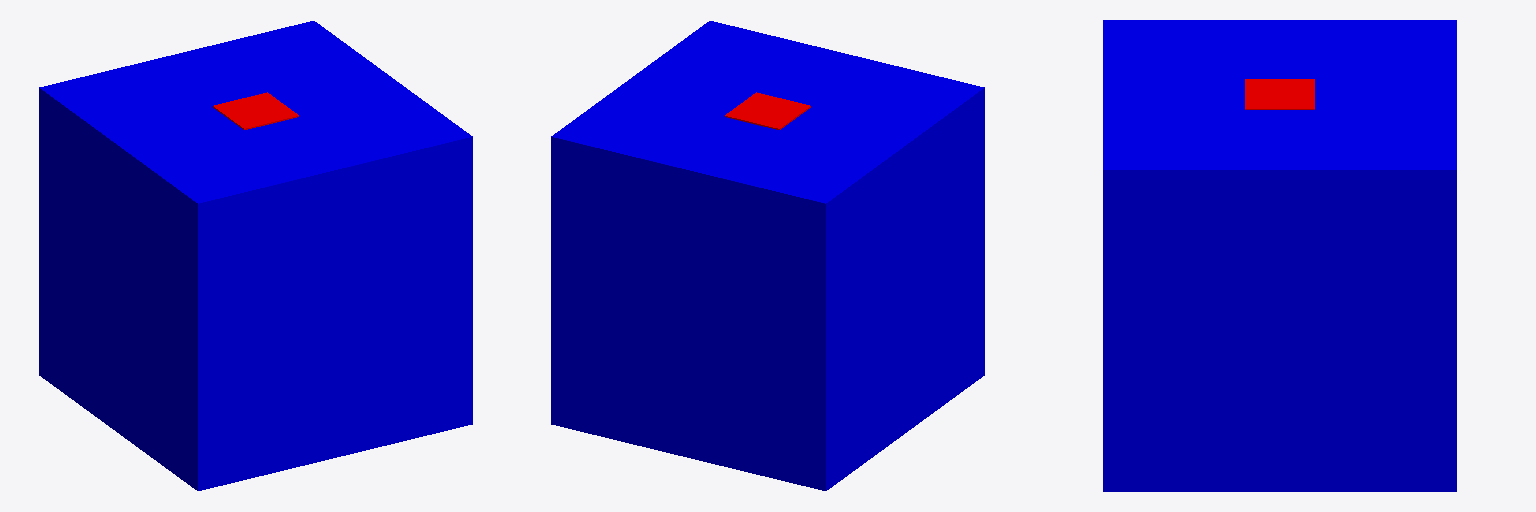
robot.urdf — box_with_opening:
<robot name="box_with_opening">
  <link name="base_link">
    <visual>
      <geometry>
        <box size="1 1 1"/>
      </geometry>
      <material name="blue">
        <color rgba="0 0 1 1"/>
      </material>
    </visual>
    <collision>
      <geometry>
        <box size="1 1 1"/>
      </geometry>
    </collision>
  </link>

  <link name="opening">
    <visual>
      <geometry>
        <box size="0.2 0.2 0.01"/>
      </geometry>
      <material name="red">
        <color rgba="1 0 0 1"/>
      </material>
    </visual>
    <collision>
      <geometry>
        <box size="0.2 0.2 0.01"/>
      </geometry>
    </collision>
  </link>

  <joint name="opening_joint" type="fixed">
    <parent link="base_link"/>
    <child link="opening"/>
    <origin xyz="0 0 0.5" rpy="0 0 0"/>
  </joint>
</robot>

--- What the picture shows (computed from the rendered views, not written in the file) ---
The picture shows the robot from 3 angles, left to right: view 1: azimuth 30°, elevation 25°; view 2: azimuth 150°, elevation 25°; view 3: azimuth 270°, elevation 25°; orthographic projection.
Robot: box_with_opening — 2 links, 1 joints (1 fixed); root link base_link; default pose: every joint at zero.
Links seen in each view (by area): view 1: base_link, opening; view 2: base_link, opening; view 3: base_link, opening.
Link boxes in pixels (box(x1,y1,x2,y2)): base_link: box(39, 21, 472, 490); opening: box(213, 92, 298, 129); base_link: box(551, 21, 984, 490); opening: box(725, 92, 810, 129); base_link: box(1103, 20, 1456, 491); opening: box(1245, 79, 1314, 109).
Size in the robot's own frame: 1 by 1 by 1 metres.
Geometry: primitives only (box / cylinder / sphere), no mesh files.